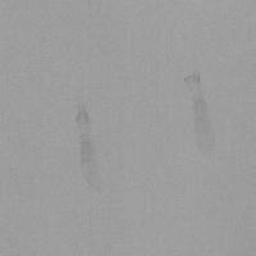Water spot: (184, 72, 213, 150), (76, 107, 99, 188)
